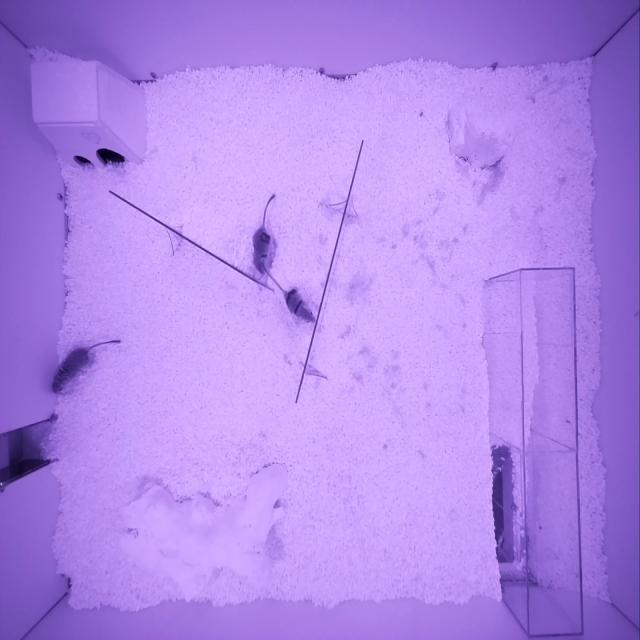pup_fluffy: (52, 348, 89, 392)
pup_h_stripe: (284, 287, 317, 323)
pup_spotted: (252, 226, 278, 274)
